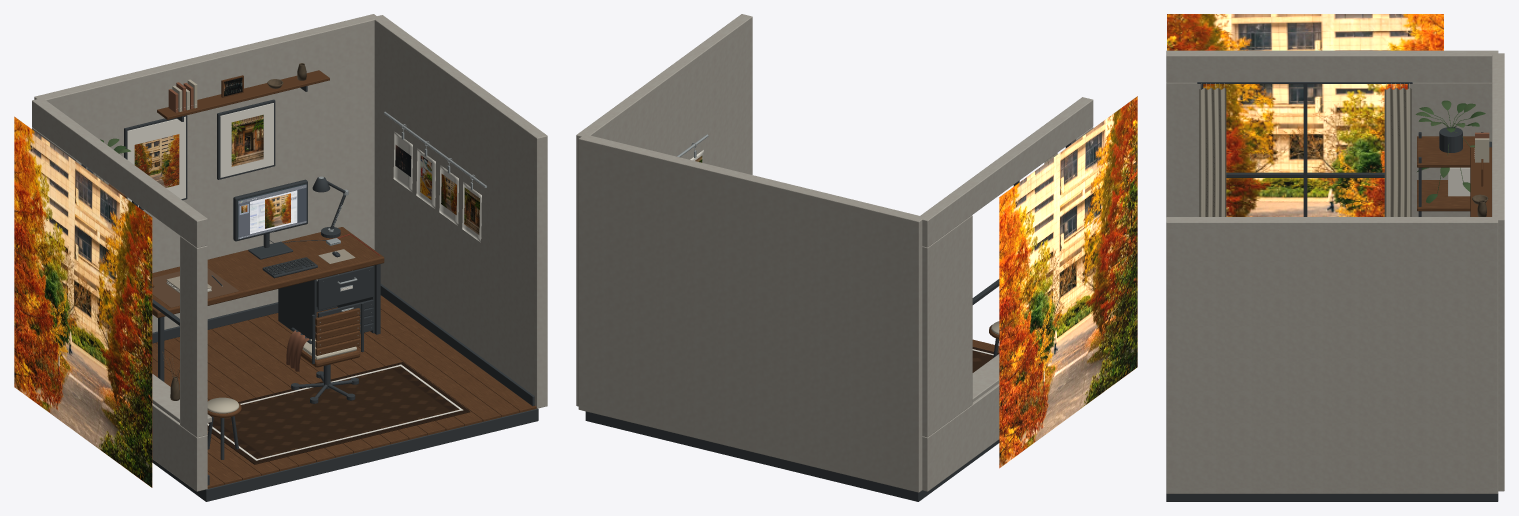
Rendered from personal-space.glb.
The picture shows the model from 3 angles, left to right: view 1: azimuth 30°, elevation 25°; view 2: azimuth 150°, elevation 25°; view 3: azimuth 270°, elevation 25°; orthographic projection.
Parts seen in each view (by area): view 1: ArchiveArchitecture, Room_WindowLandscape, Rug, Frame_BackWallPrint_01, Batch_WorkDrawerRoot_Charcoal powder coat, Frame_BackWallPrint_02, Warm_WritingMat, StackScreenSurface, StackPhotoViewerSurface, PhotoMount_04, ArchivePhoto_01; view 2: ArchiveArchitecture, Room_WindowLandscape; view 3: ArchiveArchitecture, Room_WindowLandscape.
Part boxes in pixels (x1,y1,x2,y2): ArchiveArchitecture: (32,14,547,501); Room_WindowLandscape: (14,116,152,487); Rug: (207,362,470,464); Frame_BackWallPrint_01: (134,134,179,187); Batch_WorkDrawerRoot_Charcoal powder coat: (316,266,373,309); Frame_BackWallPrint_02: (231,114,263,166); Warm_WritingMat: (152,268,238,307); StackScreenSurface: (250,190,297,234); StackPhotoViewerSurface: (265,193,290,228); PhotoMount_04: (393,131,412,192); ArchivePhoto_01: (464,187,479,234); ArchiveArchitecture: (576,14,1093,501); Room_WindowLandscape: (999,96,1137,468); ArchiveArchitecture: (1166,50,1504,501); Room_WindowLandscape: (1167,14,1443,216).
Size of the model in its own units: 4.28 by 3.08 by 3.16.
Materials: 54 (29 with a texture image).
